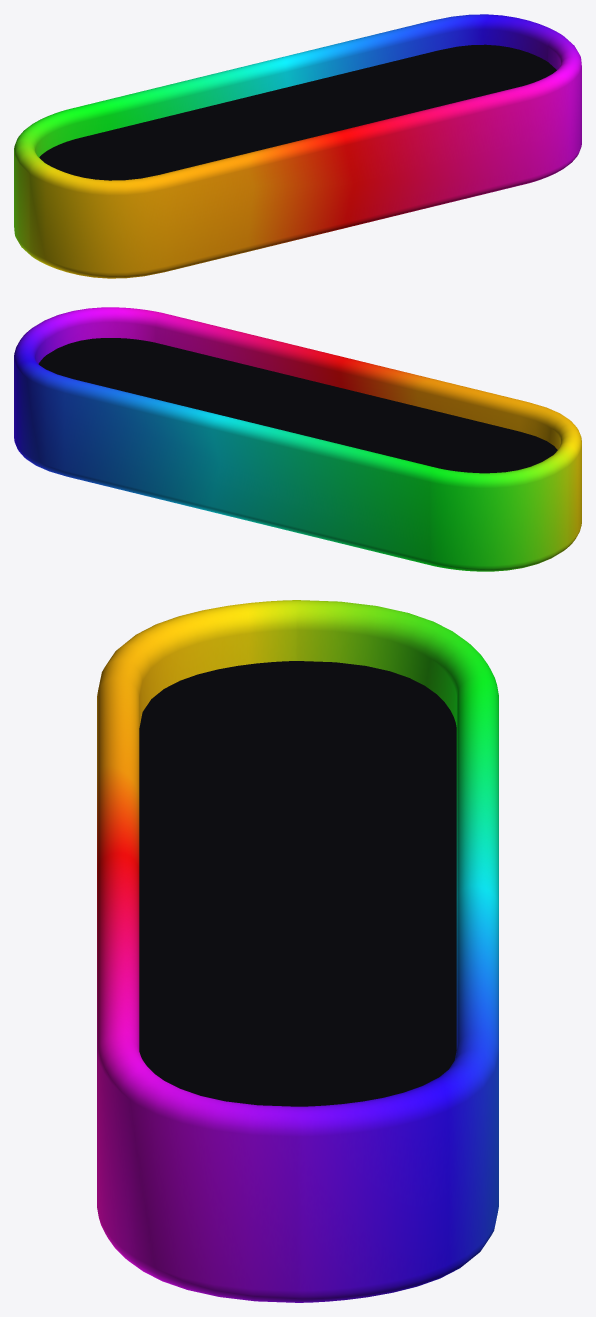
Rendered from Paddle-24.dae.
3 views of the same model, one above another, from view 1: azimuth 30°, elevation 25°; view 2: azimuth 150°, elevation 25°; view 3: azimuth 270°, elevation 25° (orthographic). The views are drawn at different scales.
Parts seen in each view (by area): view 1: Paddle; view 2: Paddle; view 3: Paddle.
Boxes of the visible parts, x1,y1,x2,y2 form: Paddle: (14, 14, 581, 278); Paddle: (14, 307, 581, 571); Paddle: (97, 600, 498, 1302).
Bounding box in the file's own units: 0.2922 × 0.05 × 0.0946.
2 materials, 1 textured.
